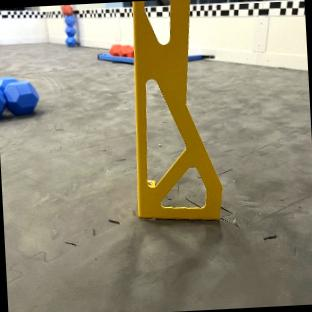V5_BLUE: (0, 76, 38, 116), (66, 15, 75, 45)
V5_RED: (110, 43, 134, 56), (62, 4, 71, 14)
